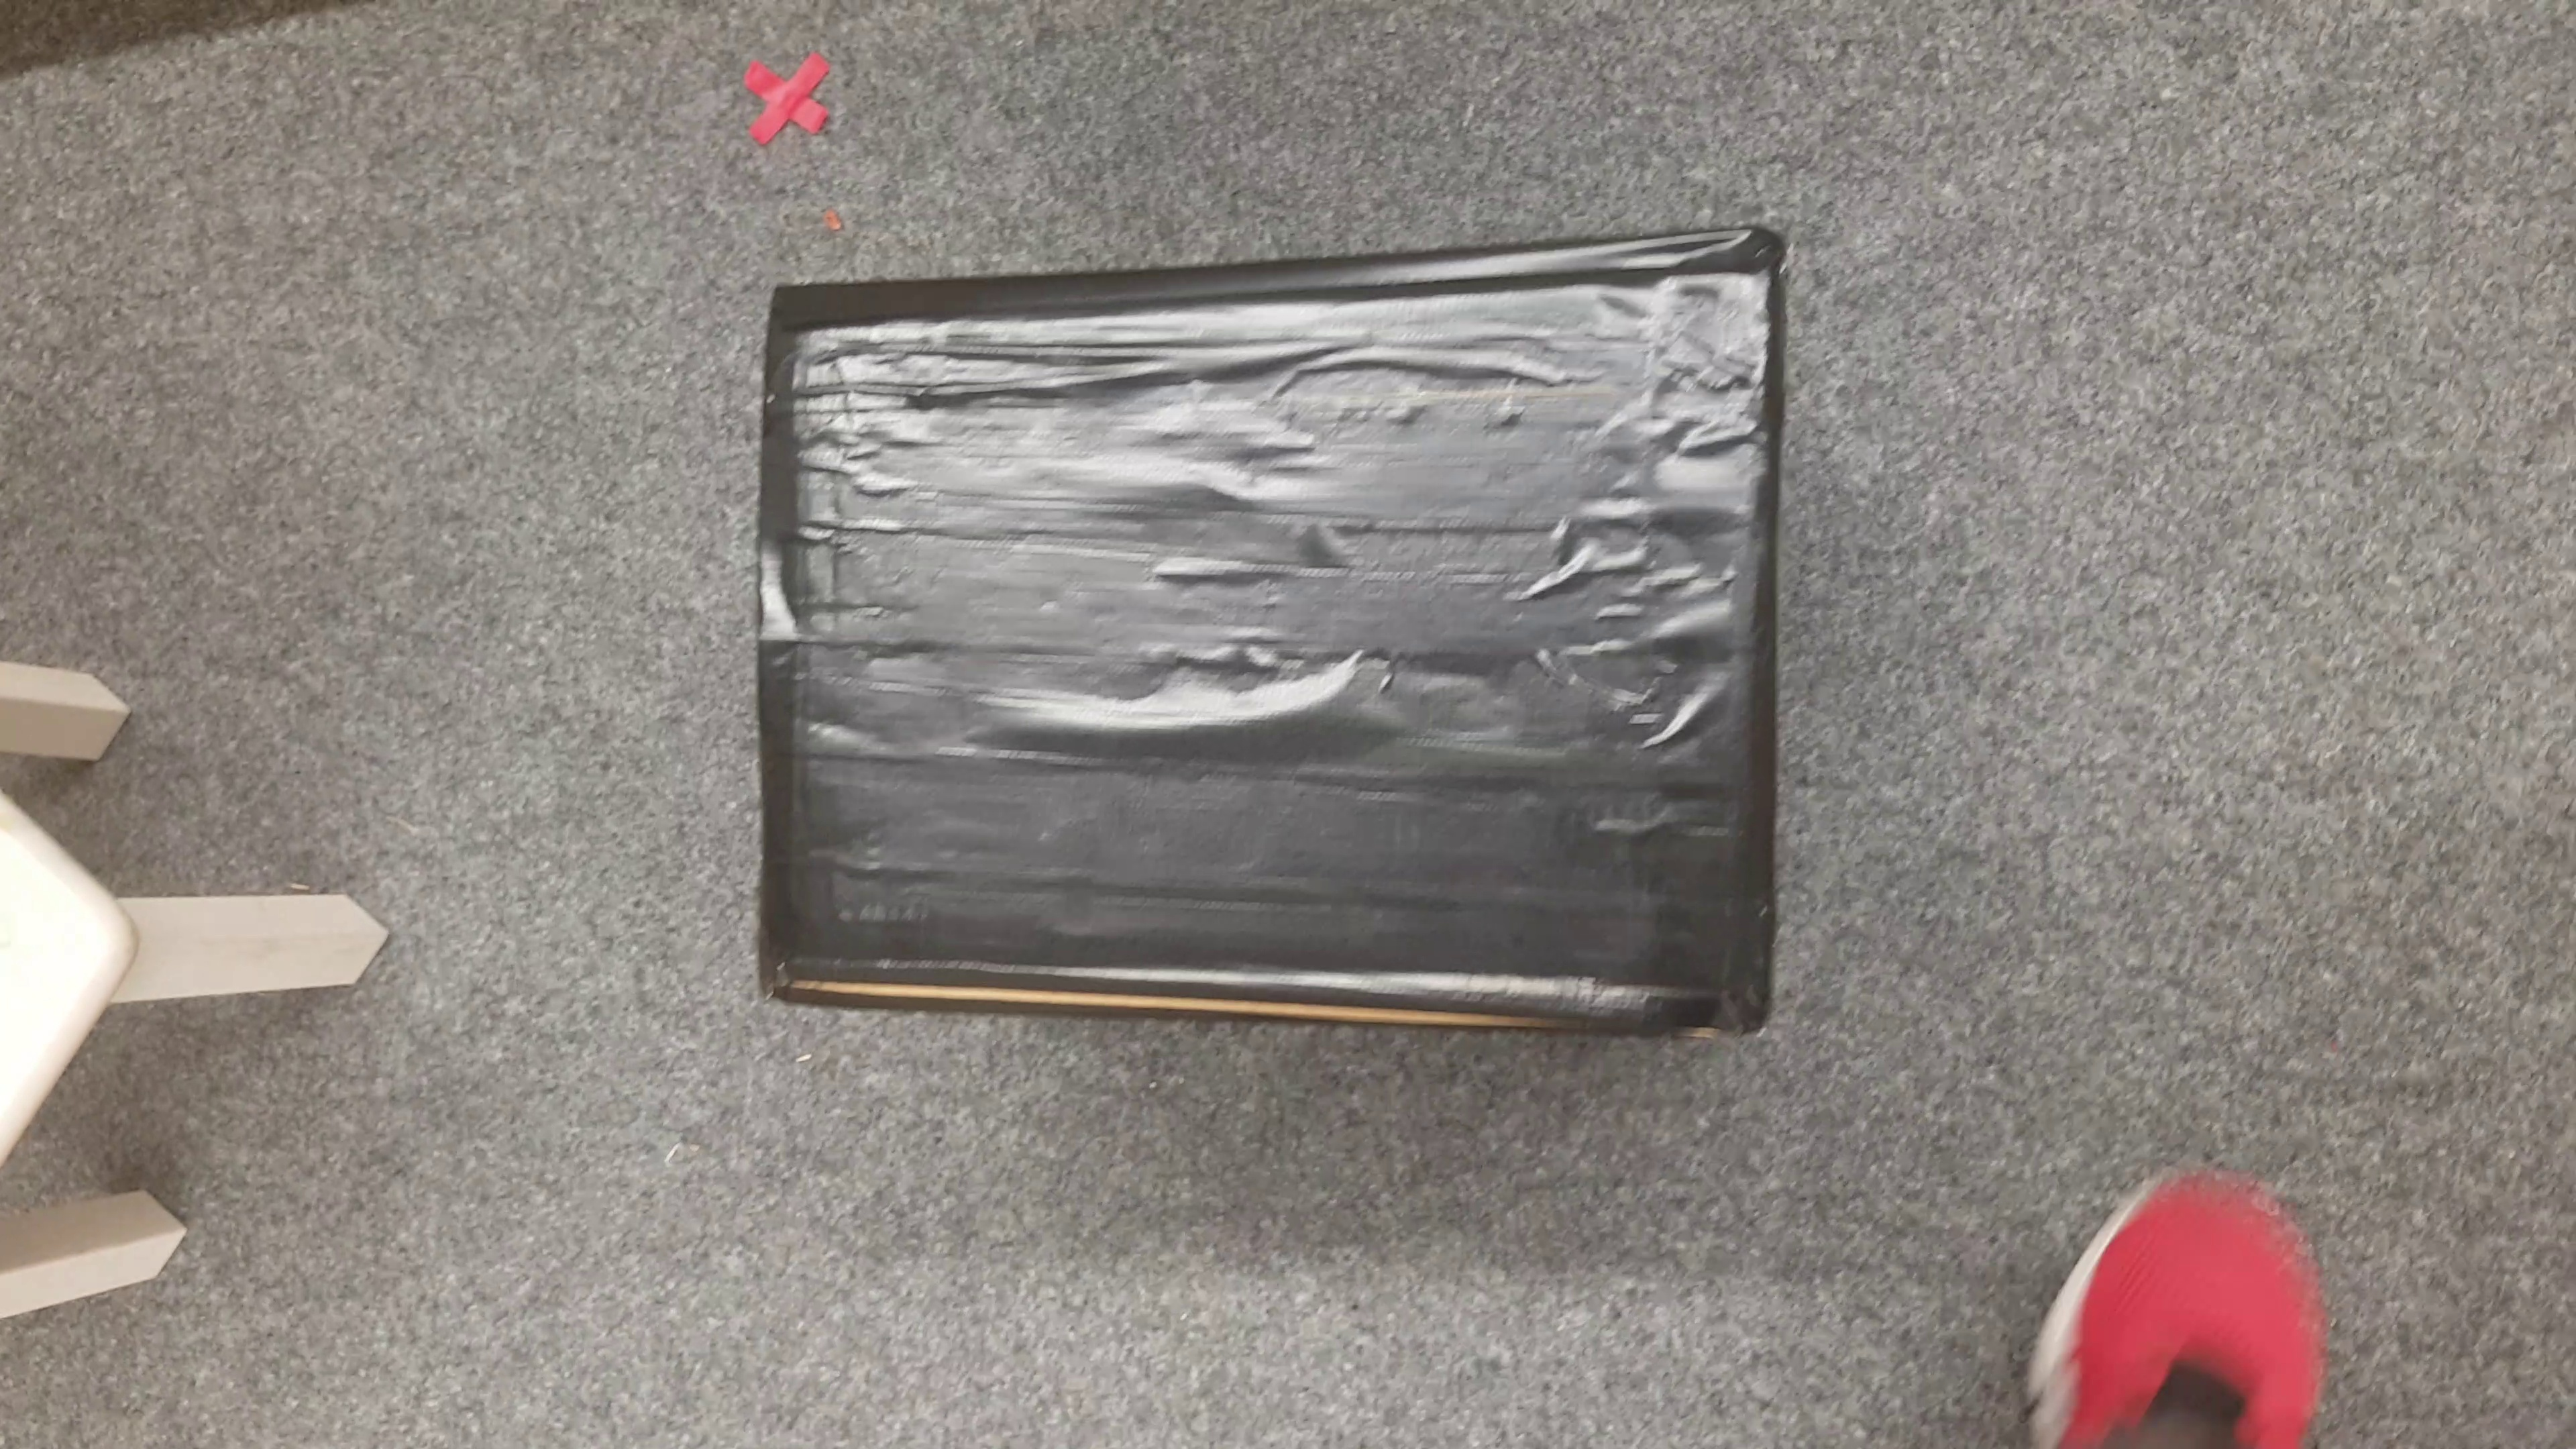push: (750, 235, 1796, 1060)
